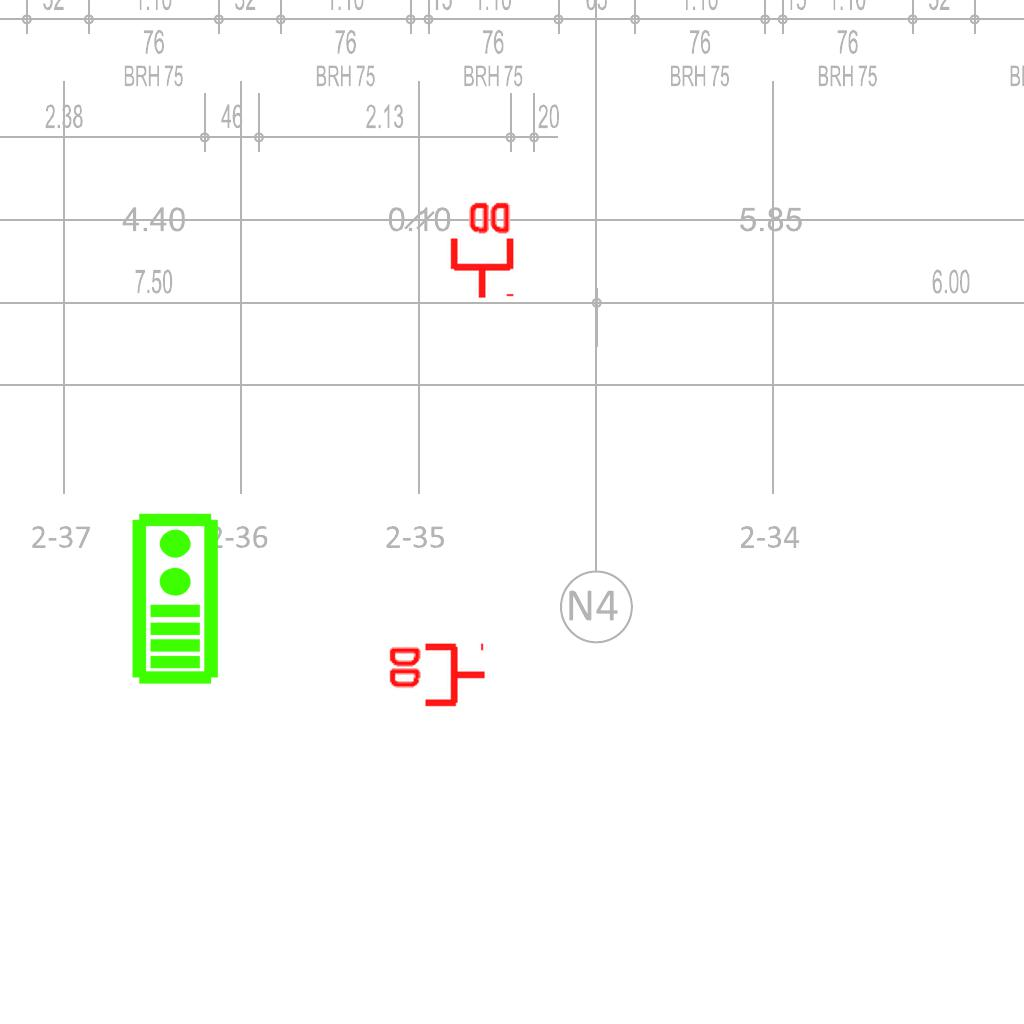Datenanschluss_zweifach: (446, 198, 515, 301), (385, 642, 488, 711)
Gegensprechanlage_mit_Video: (126, 510, 221, 686)
